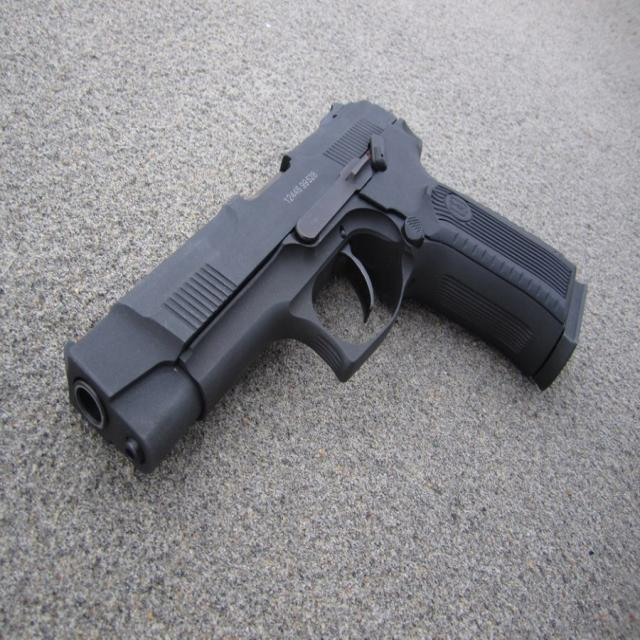pistol: (58, 100, 590, 482)
